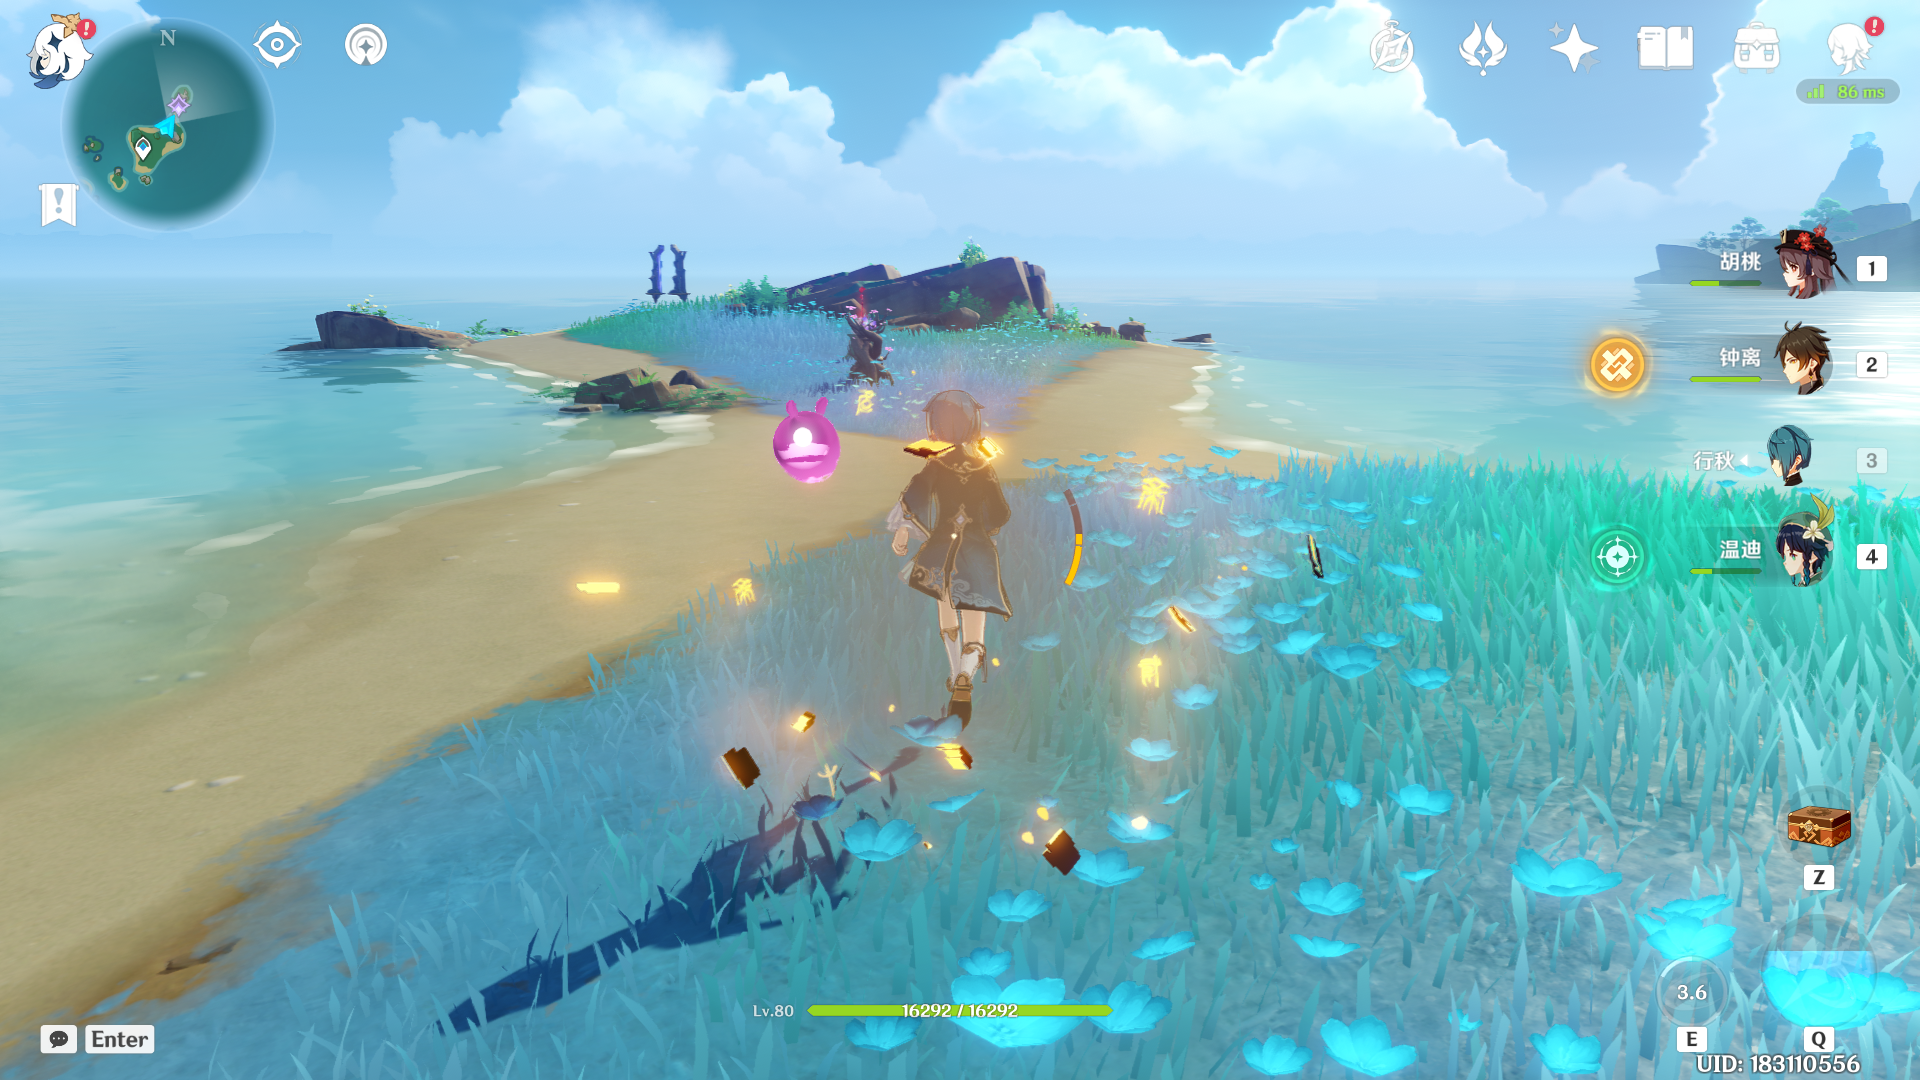character: (851, 352, 1124, 802)
